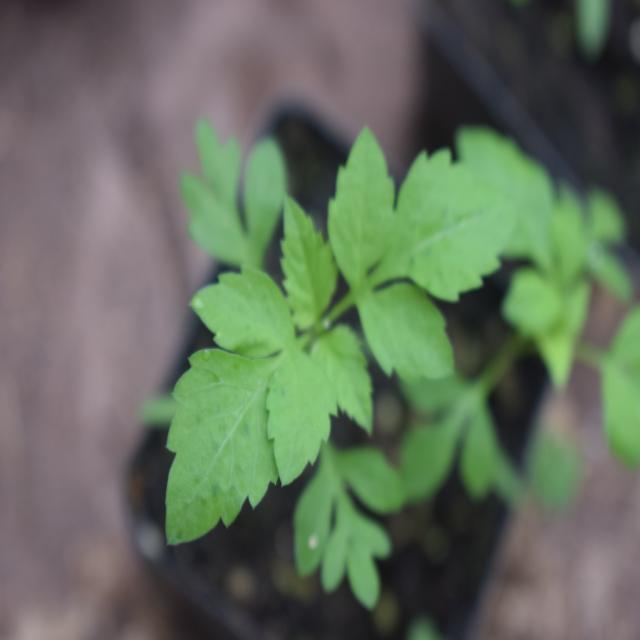Bidens pilosa: (132, 115, 502, 550)
